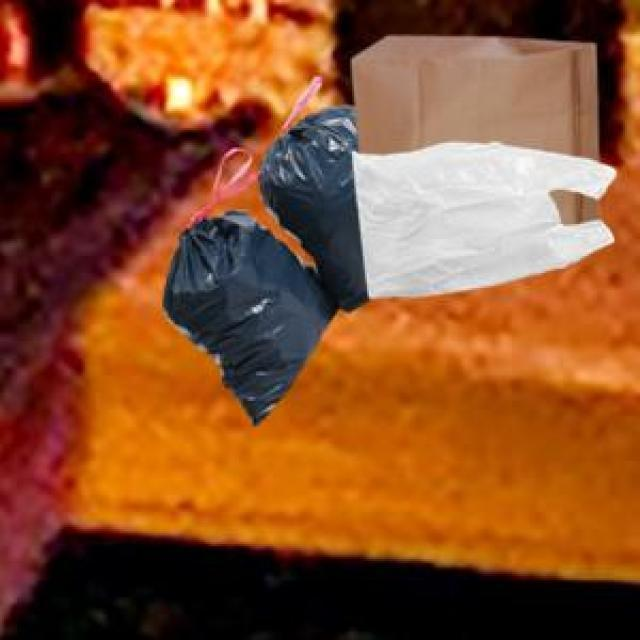miscellaneous trash: (158, 73, 365, 420)
paper: (348, 32, 595, 222)
